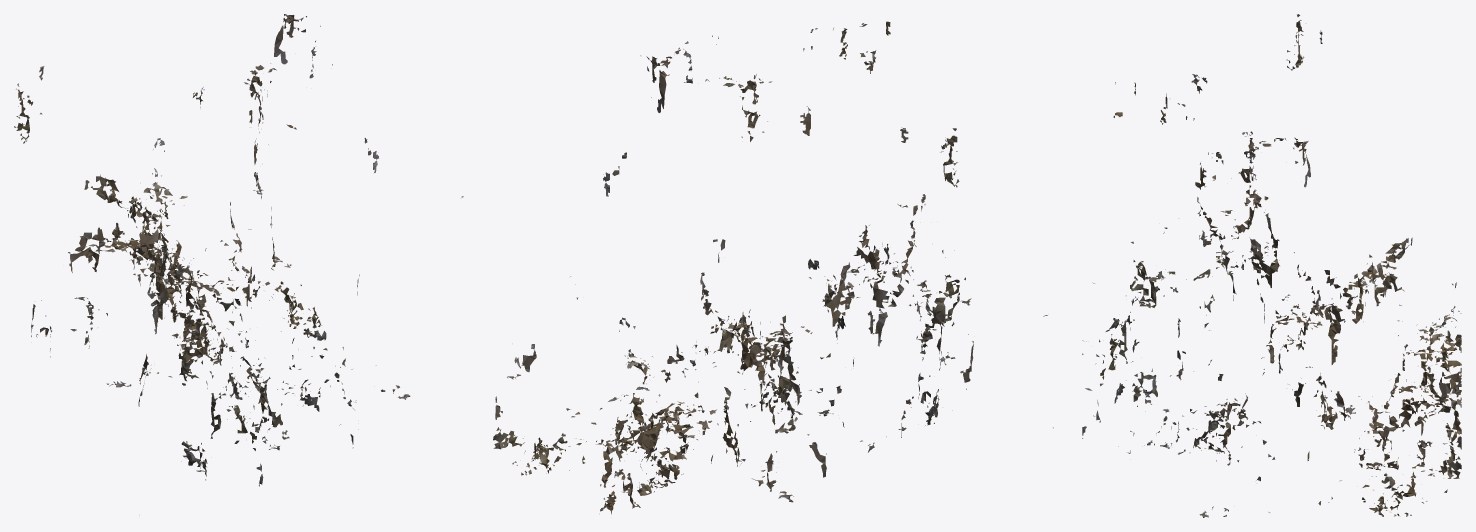
Rendered from coarse.glb.
The picture shows the model from 3 angles, left to right: view 1: azimuth 30°, elevation 25°; view 2: azimuth 150°, elevation 25°; view 3: azimuth 270°, elevation 25°; orthographic projection. The views are drawn at different scales.
Bounding box in the file's own units: 3.6 × 3.6 × 3.6.
